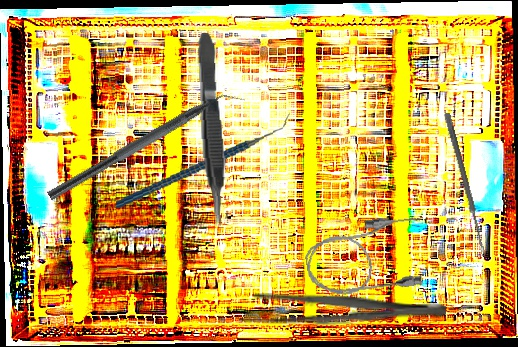Cannula: (301, 212, 430, 302)
Chopper: (46, 79, 247, 215), (108, 111, 298, 209)
Dressing Forceps: (239, 293, 446, 327)
Surgical Spoon: (443, 112, 488, 257)
Tissue Forceps: (195, 32, 230, 227)
